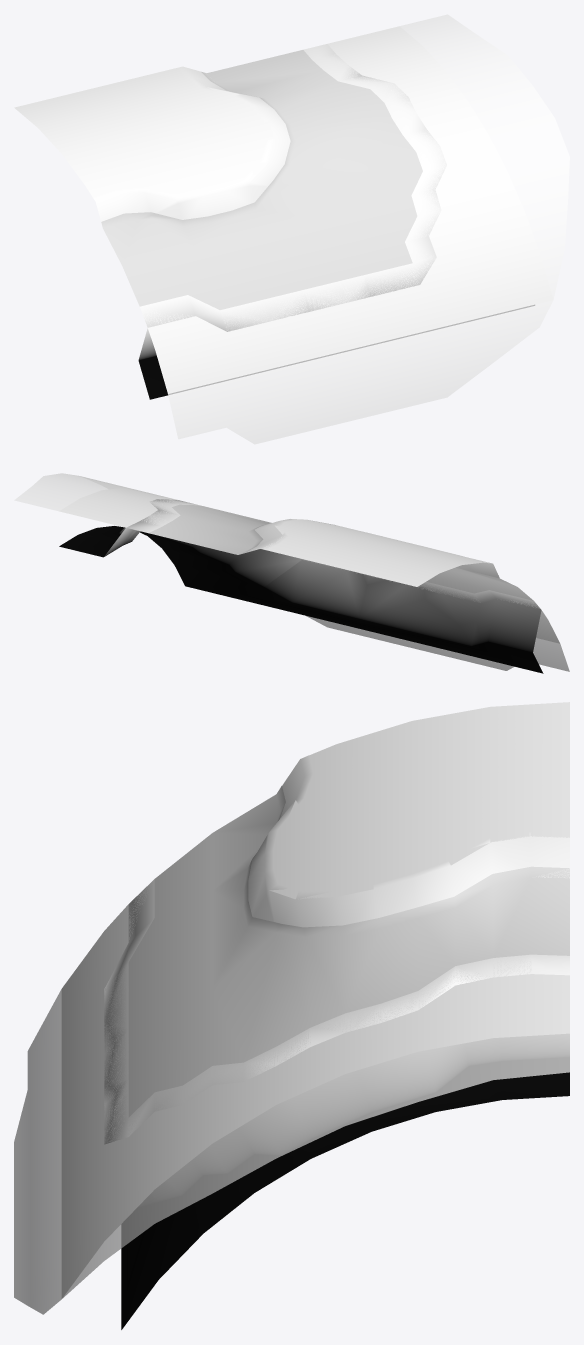
The model's file is grd_Ise_2.dae.
The picture shows the model from 3 angles, top to bottom: view 1: azimuth 30°, elevation 25°; view 2: azimuth 150°, elevation 25°; view 3: azimuth 270°, elevation 25°; orthographic projection. The views are drawn at different scales.
Parts seen in each view (by area): view 1: grd_Ise_2; view 2: grd_Ise_2; view 3: grd_Ise_2.
Part boxes in pixels (left/top/right/bottom): grd_Ise_2: left=14, top=14, right=569, bottom=444; grd_Ise_2: left=14, top=473, right=569, bottom=673; grd_Ise_2: left=14, top=702, right=569, bottom=1329.
Bounding box in the file's own units: 600 × 293 × 387.
Materials: 6 (1 with a texture image).
